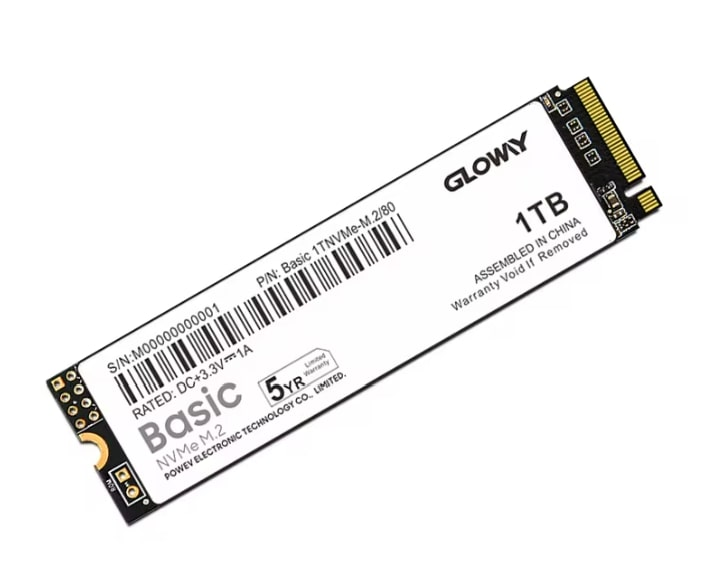ssd2280: (44, 75, 662, 527)
